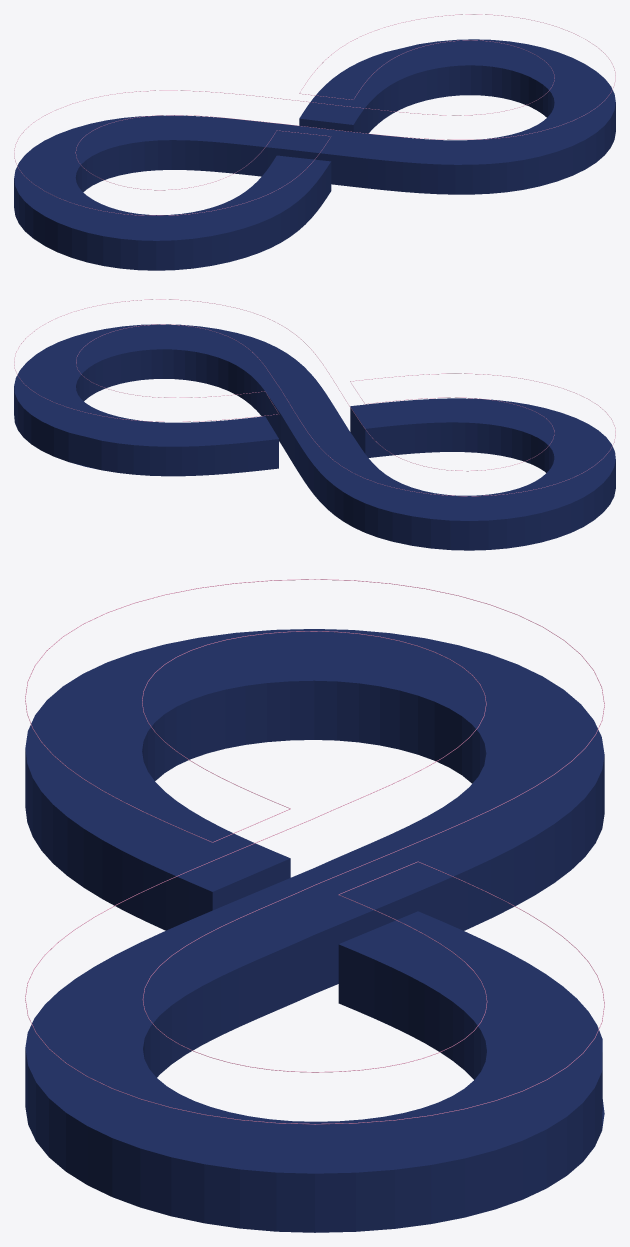
File: Infinity05.gltf
3 renders of one model, top to bottom at view 1: azimuth 30°, elevation 25°; view 2: azimuth 150°, elevation 25°; view 3: azimuth 270°, elevation 25°, orthographic. The views are drawn at different scales.
Visible parts, largest first — view 1: Curve, Curve.001; view 2: Curve, Curve.001; view 3: Curve, Curve.001.
Boxes of the visible parts, x1,y1,x2,y2 form: Curve: (14,39,615,270); Curve.001: (14,14,615,215); Curve: (14,324,615,550); Curve.001: (14,299,615,496); Curve: (25,629,604,1232); Curve.001: (25,579,604,1124).
Bounding box in the file's own units: 8.87 × 0.8258 × 3.99.
